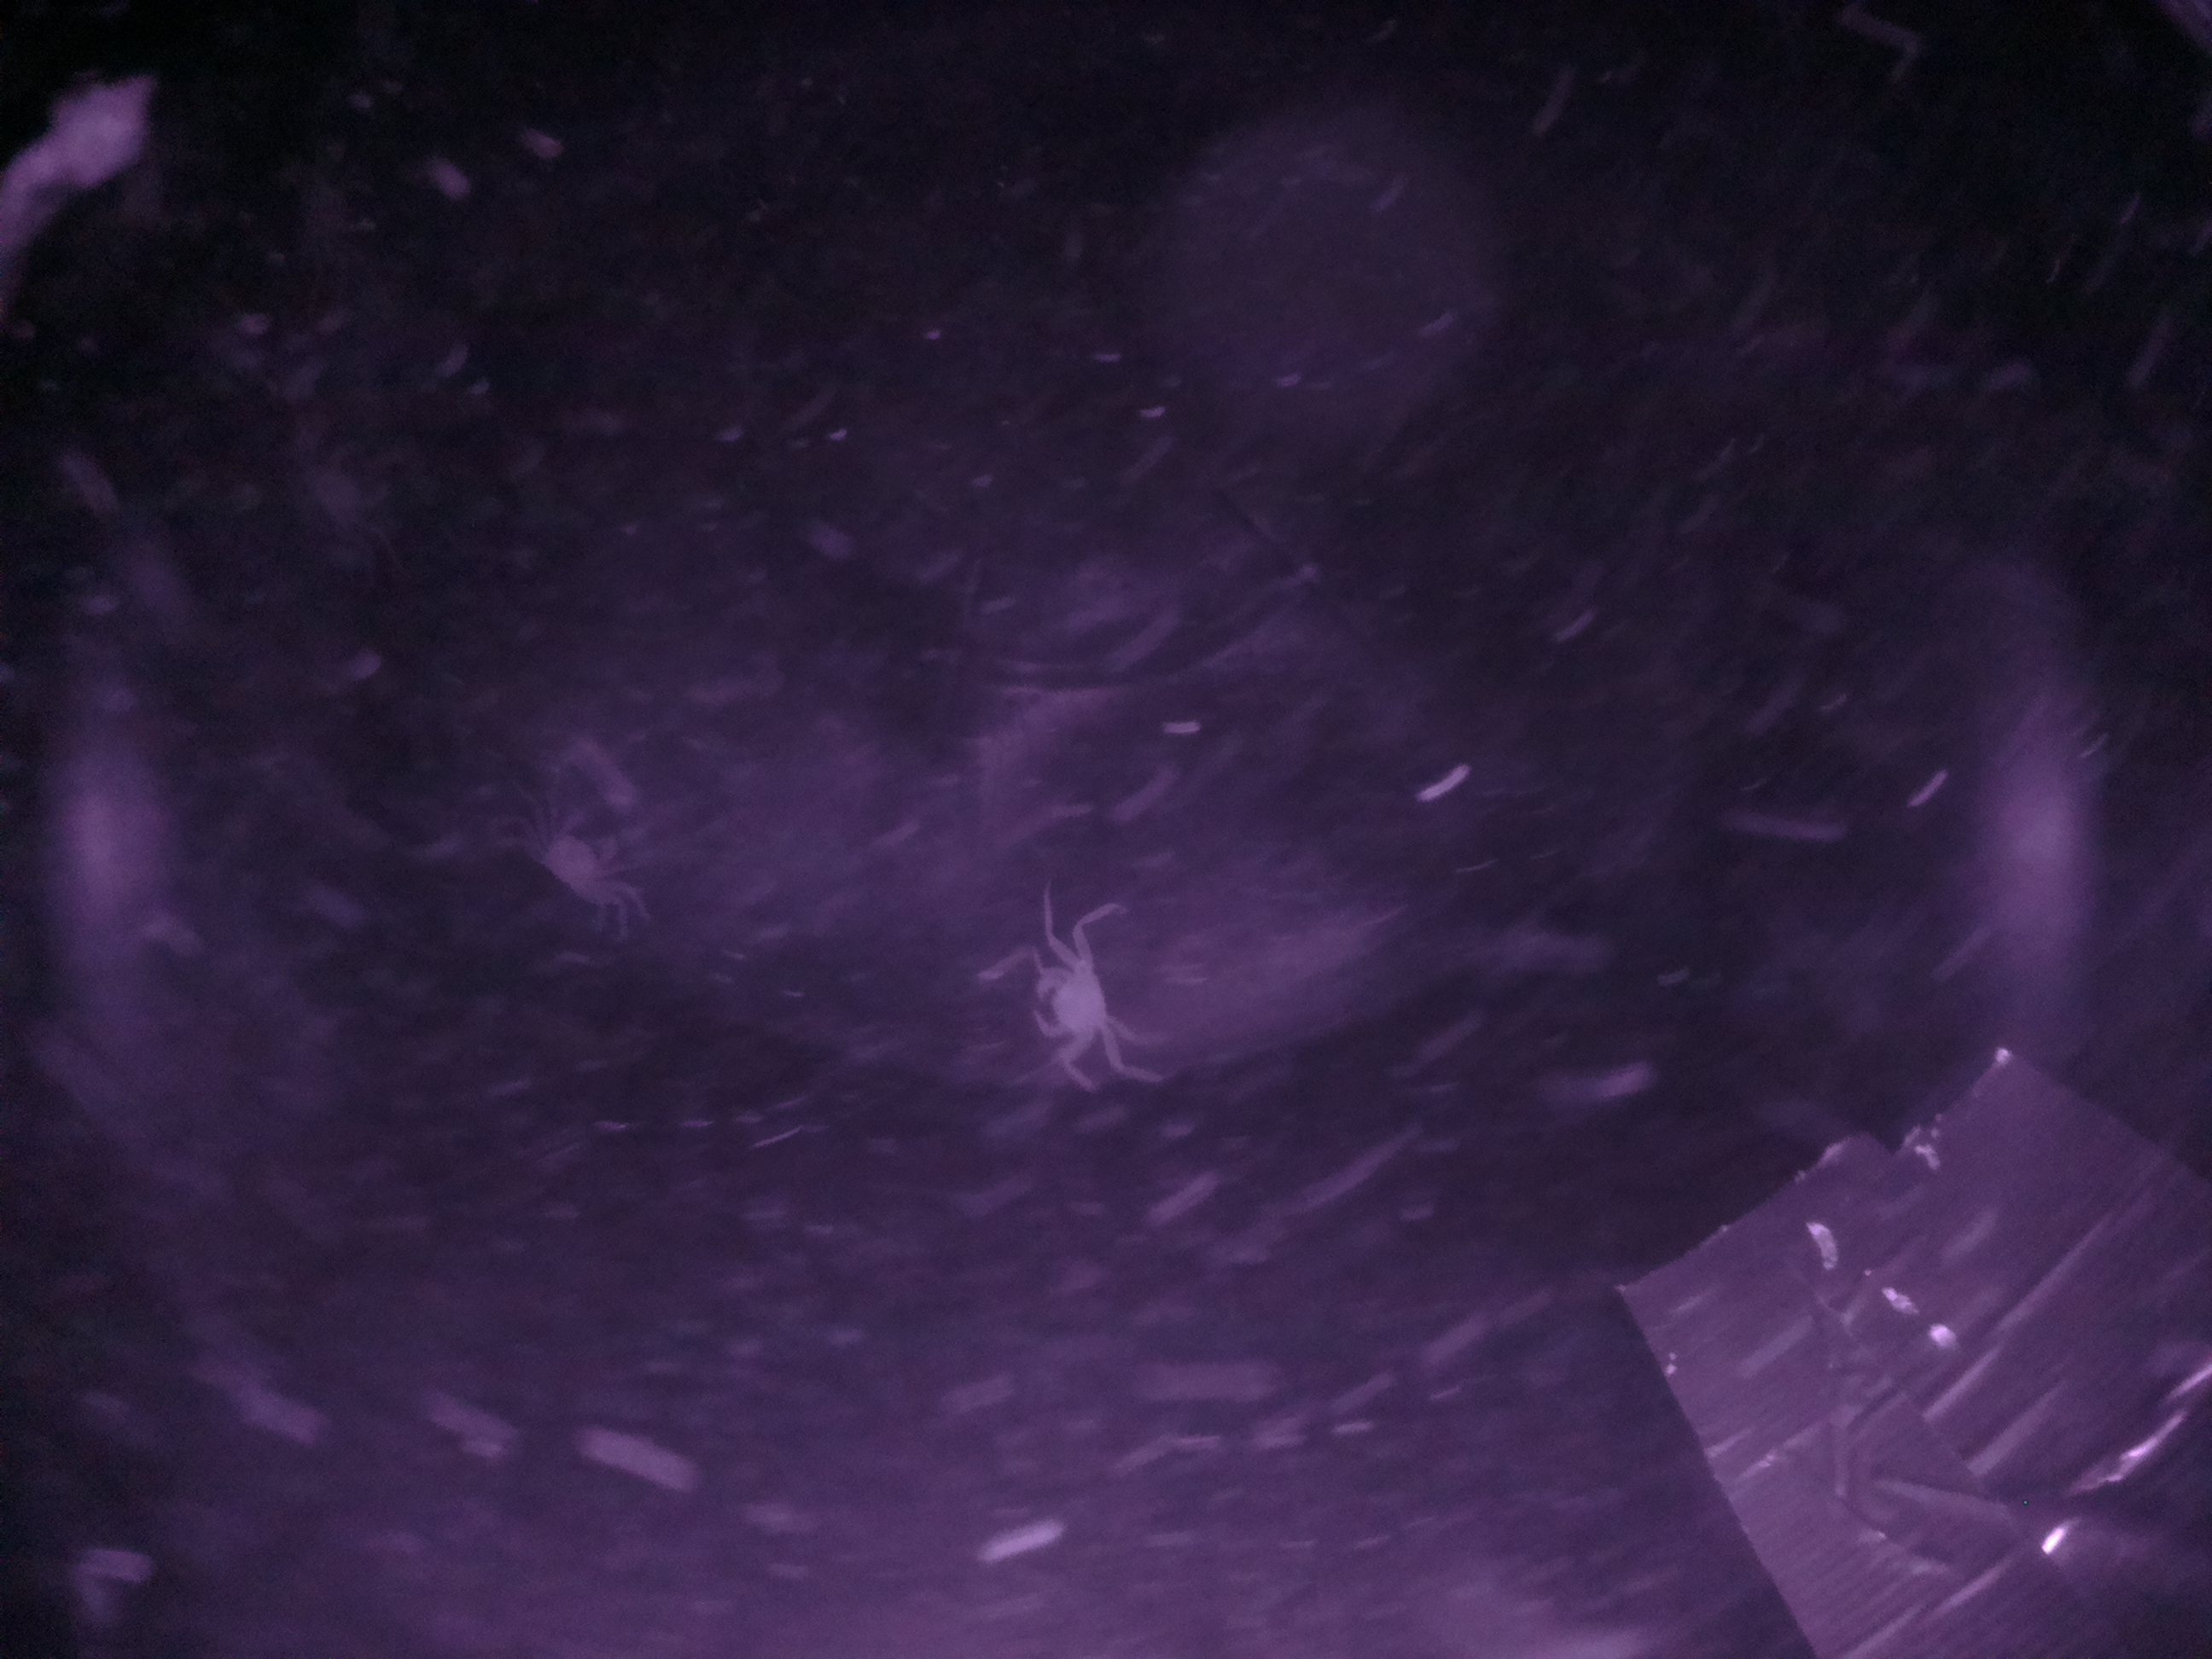Crab: (509, 786, 655, 932), (1012, 925, 1139, 1068)
